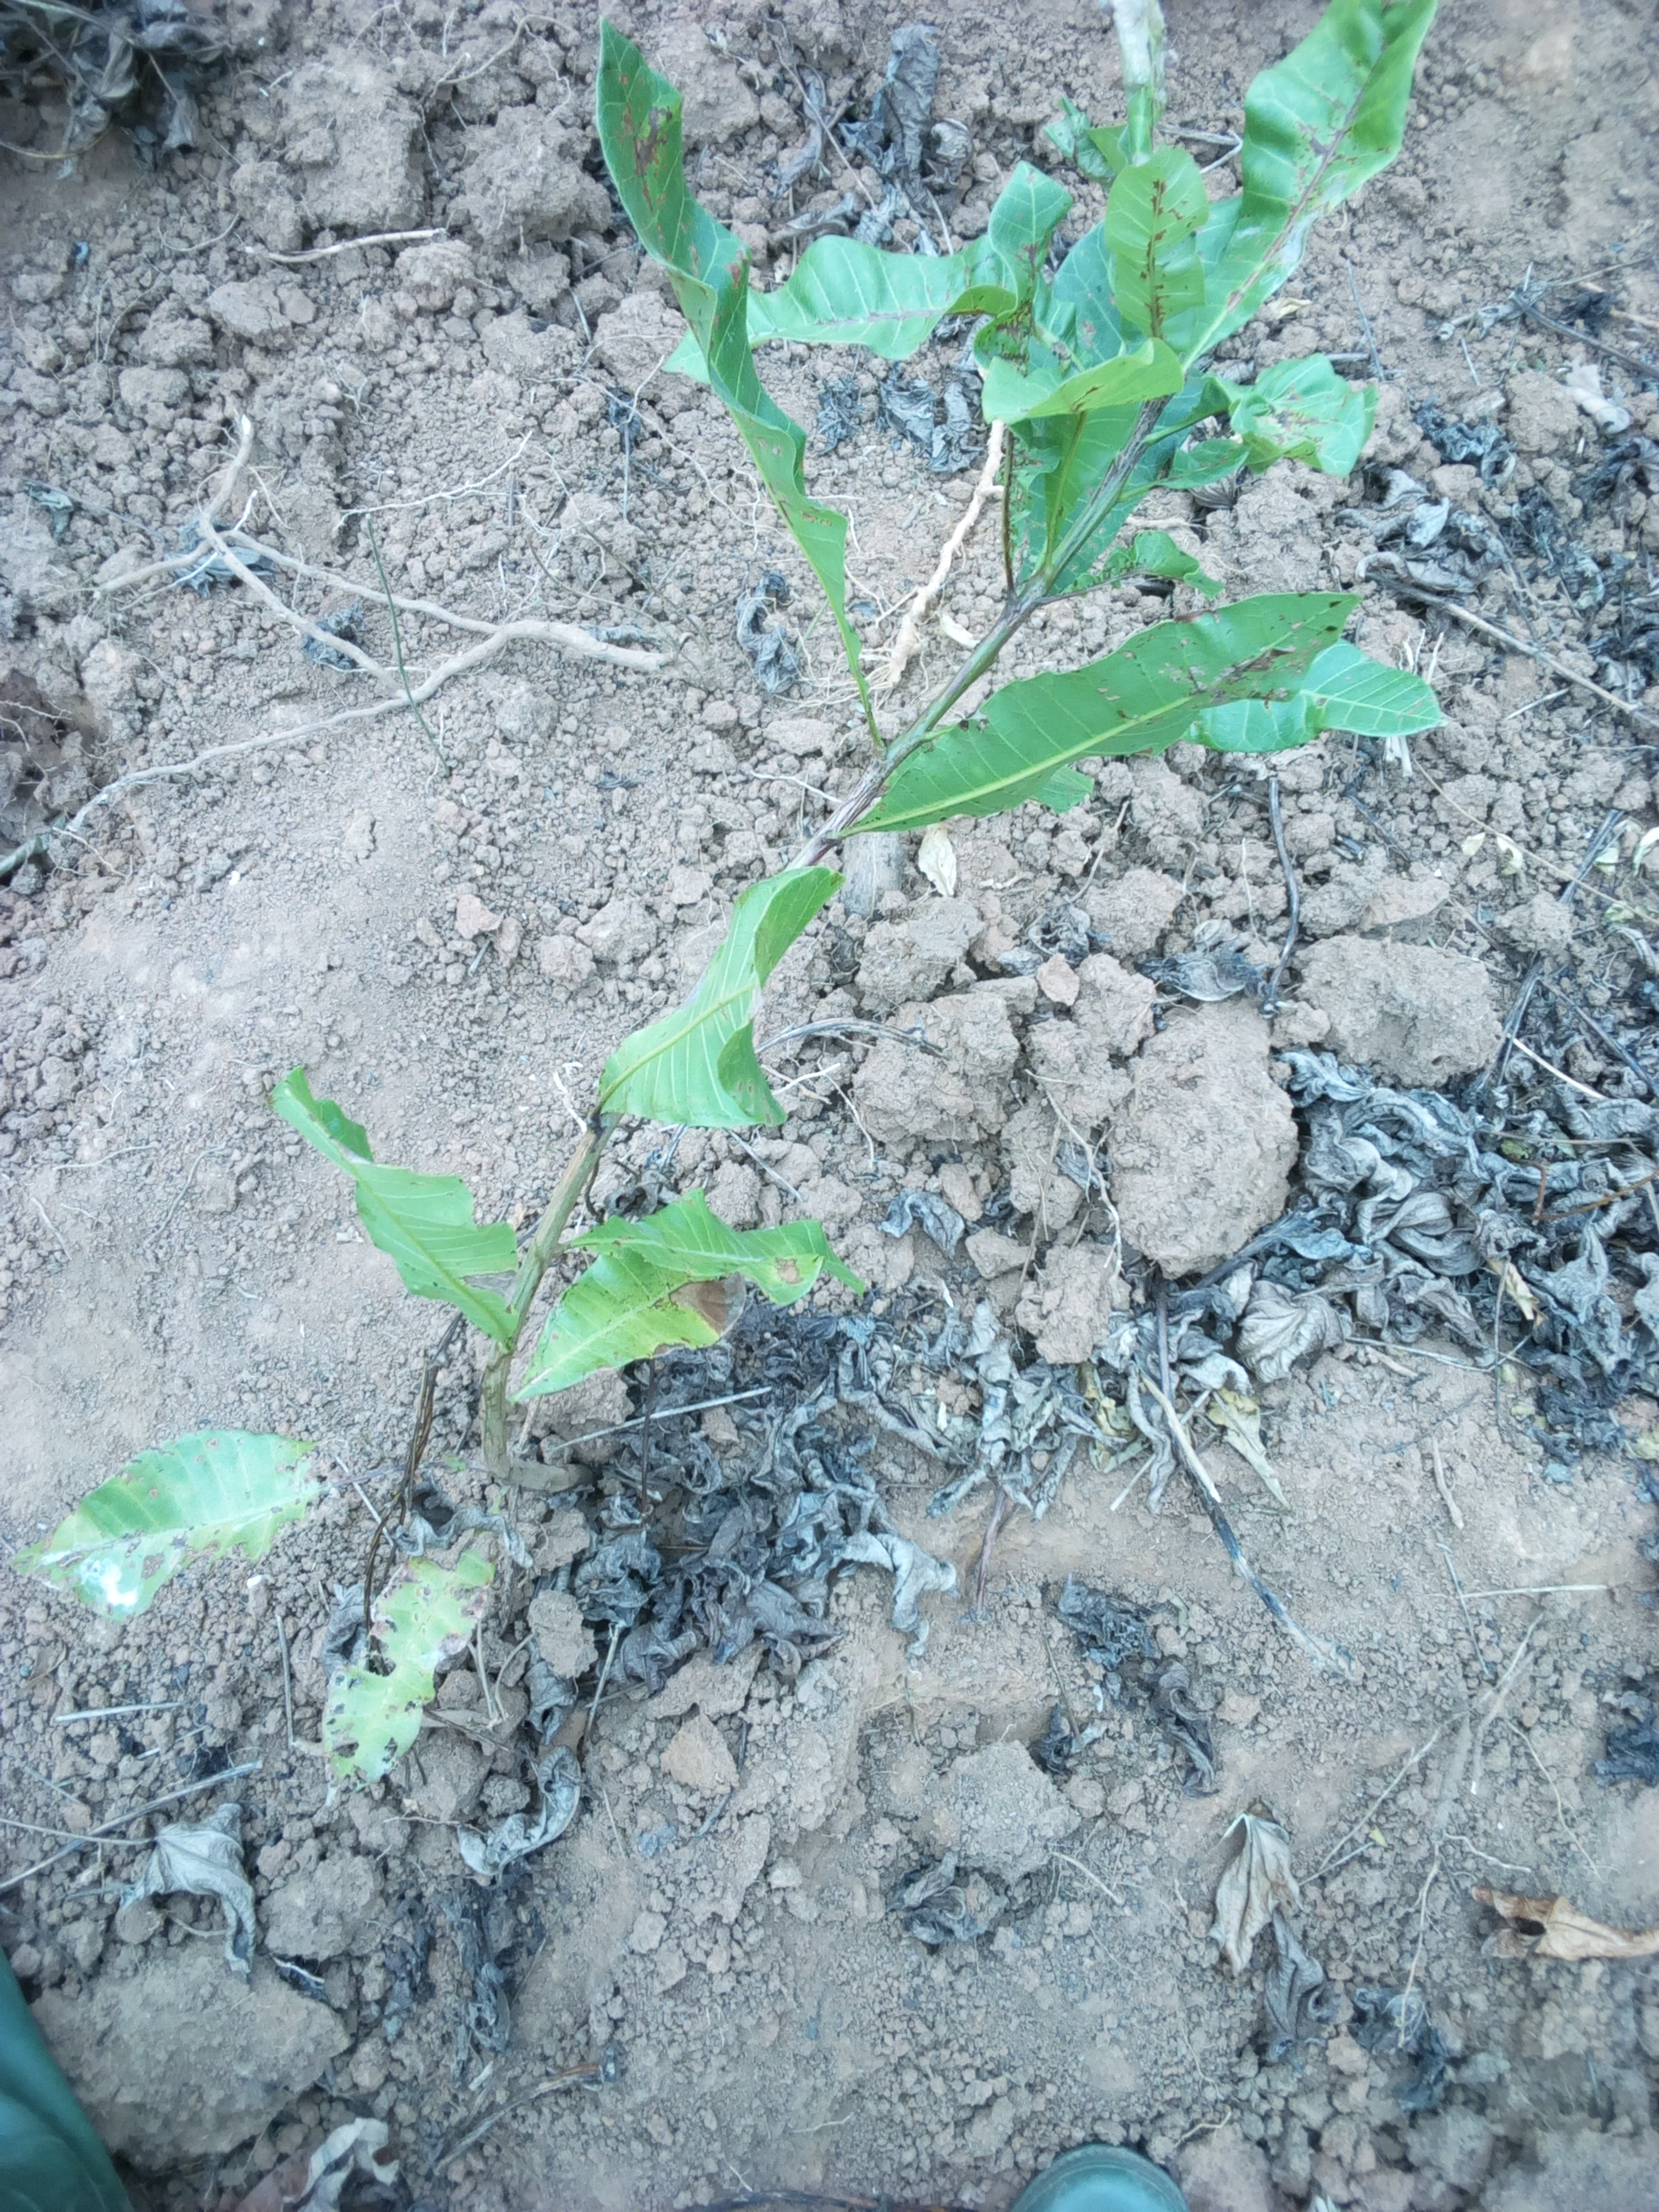Anthracnose: (582, 0, 873, 709), (870, 583, 1385, 831), (504, 1191, 850, 1390)
